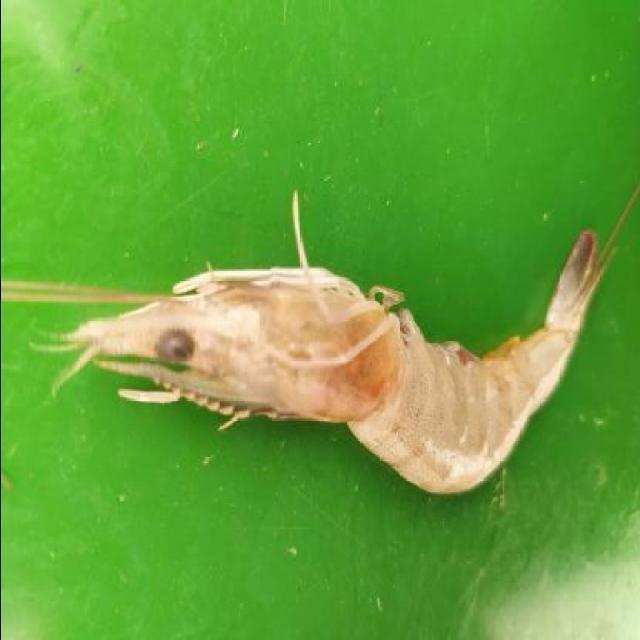shrimp: (79, 278, 594, 492)
